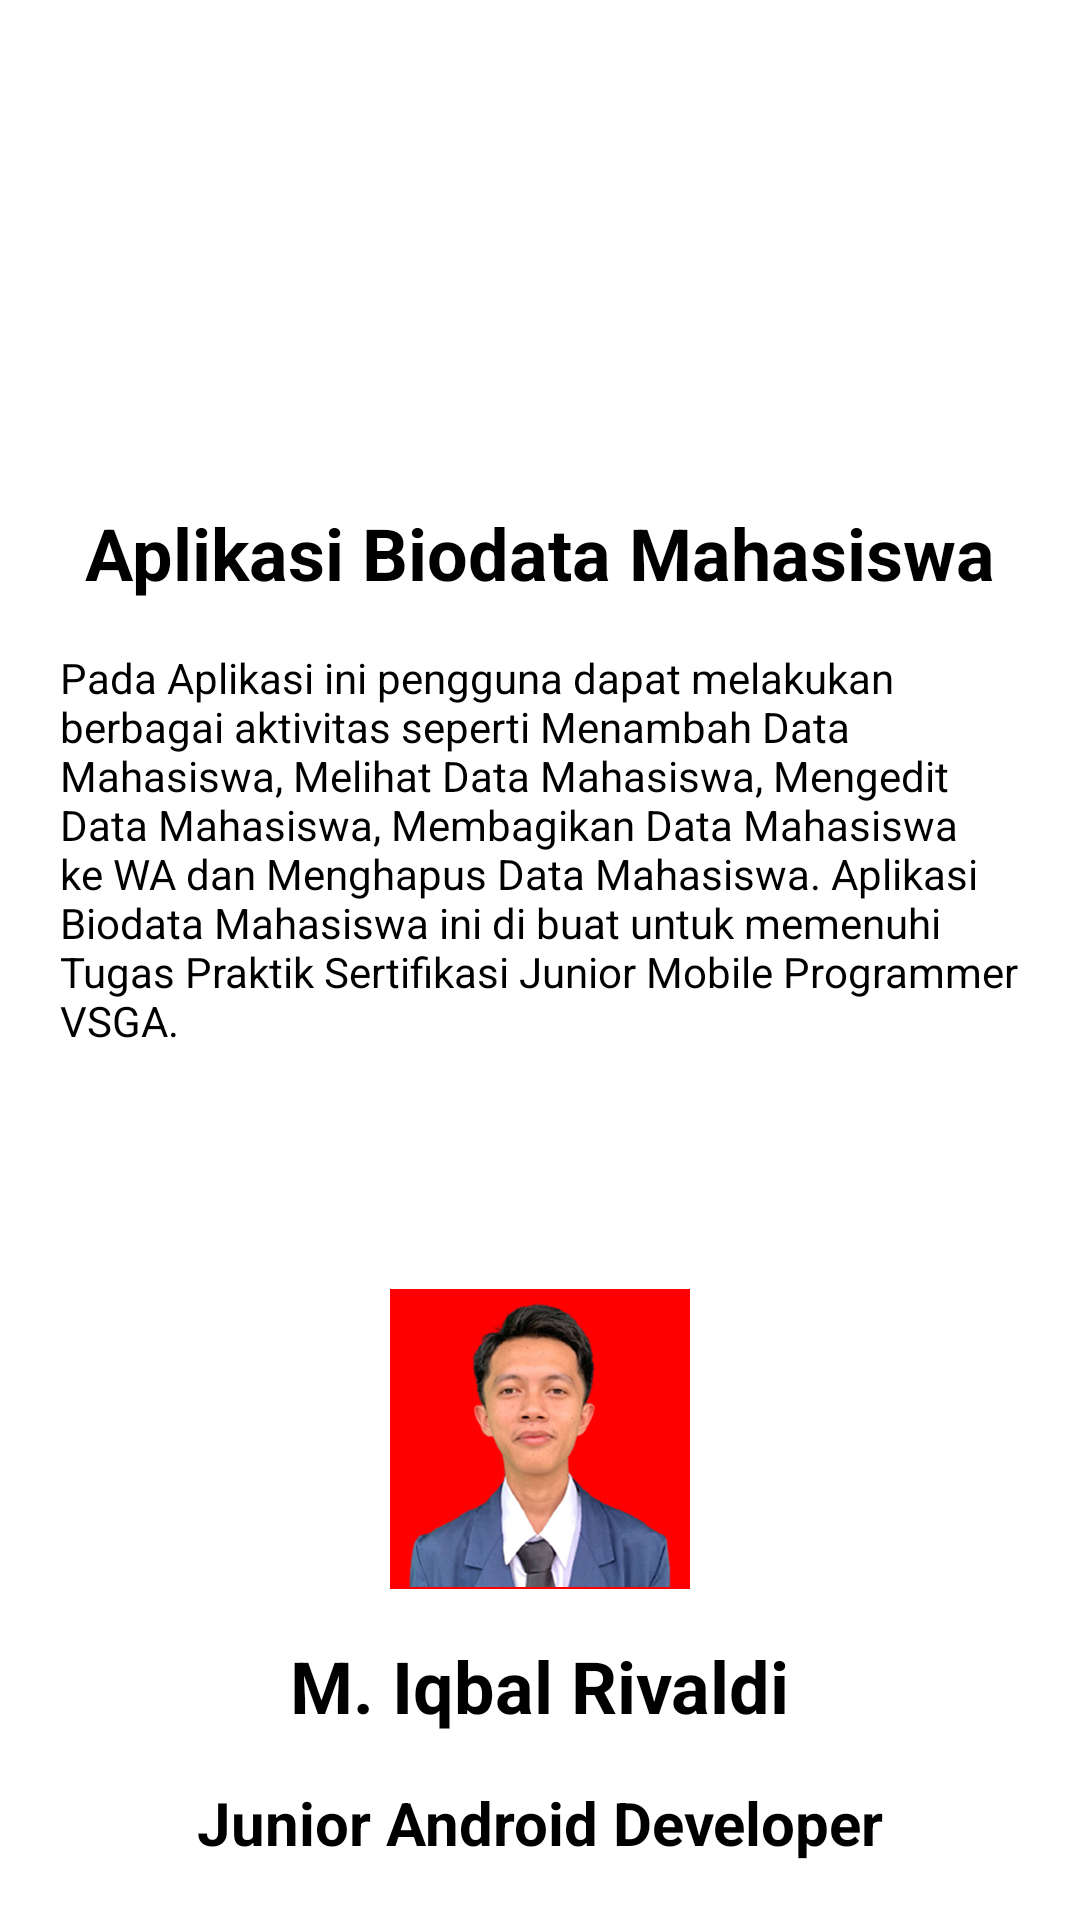

Where to tap for icons on this 1080px x 1920px app screen, as (x,y):
profile: (540,1439)
